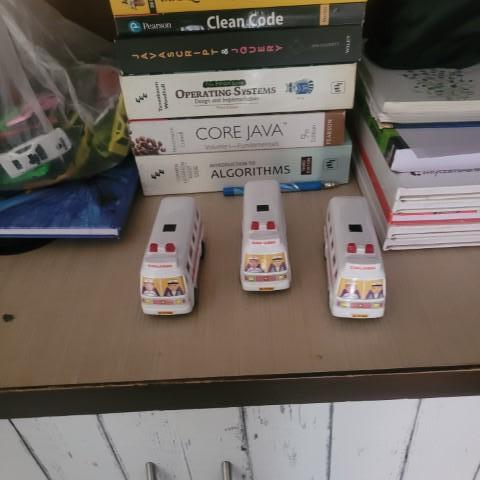ambulance: (320, 195, 389, 323), (137, 195, 206, 318), (237, 177, 294, 295)
